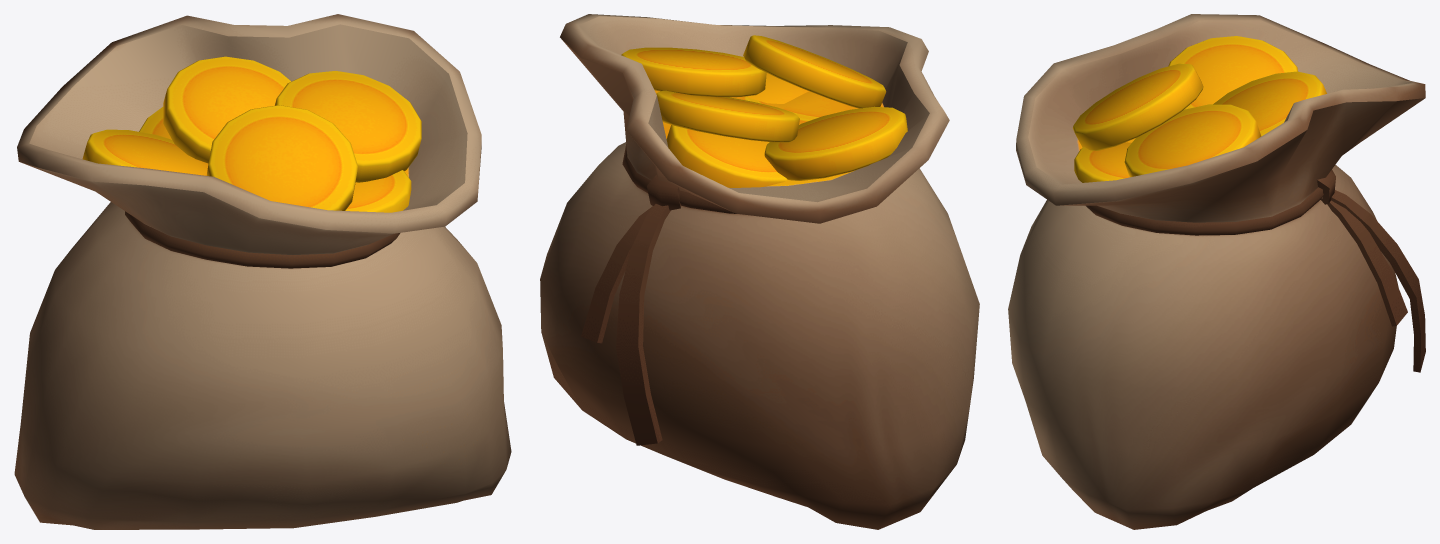
Rendered from moneysack.glb.
3 views of the same model, side by side, from view 1: azimuth 30°, elevation 25°; view 2: azimuth 150°, elevation 25°; view 3: azimuth 270°, elevation 25° (orthographic). The views are drawn at different scales.
Parts seen in each view (by area): view 1: MoneySack; view 2: MoneySack; view 3: MoneySack.
Part boxes in pixels (x1,y1,x2,y2): MoneySack: (14, 14, 511, 529); MoneySack: (540, 14, 979, 529); MoneySack: (1008, 14, 1425, 529).
Bounding box in the file's own units: 1.65 × 1.6 × 1.56.
1 material, 1 textured.
